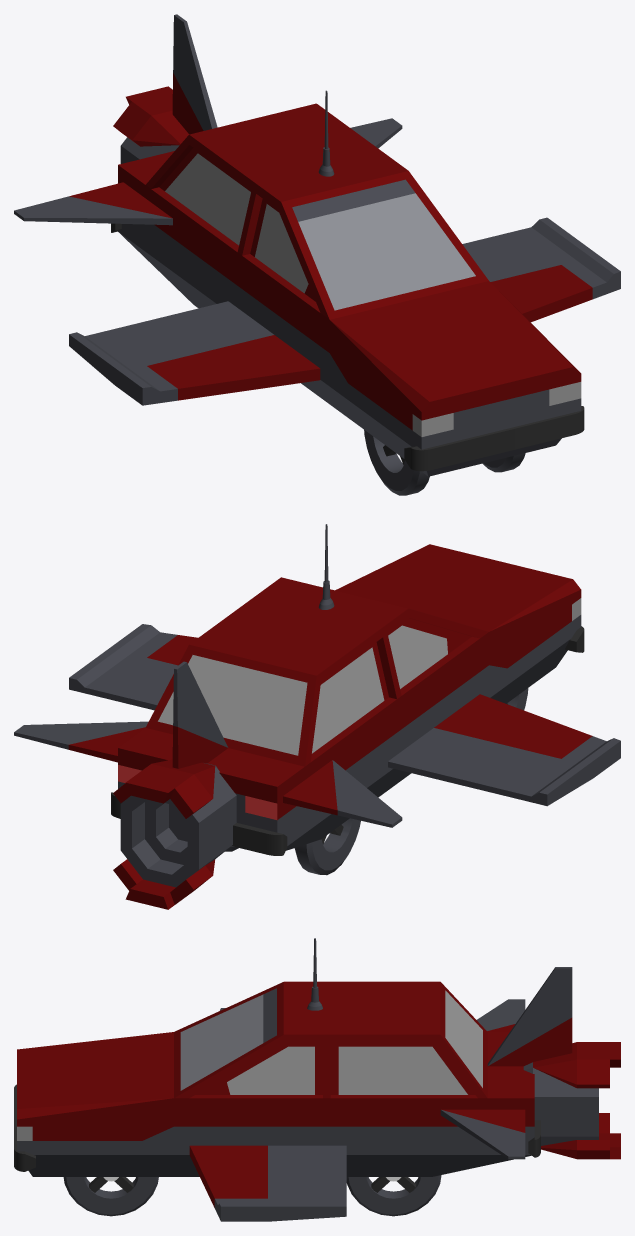
File: FlyingCar3.fbx
3 renders of one model, top to bottom at view 1: azimuth 30°, elevation 25°; view 2: azimuth 150°, elevation 25°; view 3: azimuth 270°, elevation 25°, orthographic. The views are drawn at different scales.
Visible parts, largest first — view 1: mergedBlocks; view 2: mergedBlocks; view 3: mergedBlocks.
Boxes of the visible parts, bbox=[...] form: mergedBlocks: bbox=[14, 14, 620, 495]; mergedBlocks: bbox=[14, 524, 620, 909]; mergedBlocks: bbox=[14, 938, 620, 1221].
Bounding box in the file's own units: 300 × 180 × 387.
